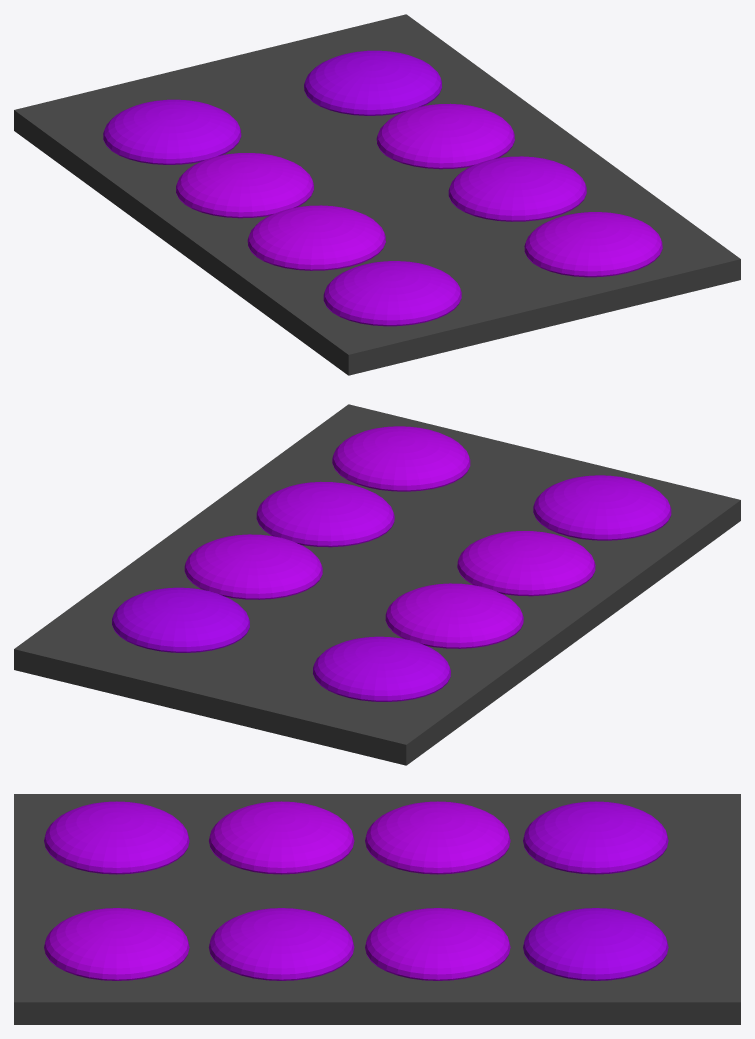
Rendered from Drug4.fbx.
3 views of the same model, one above another, from view 1: azimuth 30°, elevation 25°; view 2: azimuth 150°, elevation 25°; view 3: azimuth 270°, elevation 25° (orthographic). The views are drawn at different scales.
Parts seen in each view (by area): view 1: Cube, Sphere.002, Sphere.003, Sphere, Sphere.001, Sphere.007, Sphere.006, Sphere.004, Sphere.005; view 2: Cube, Sphere, Sphere.001, Sphere.007, Sphere.006, Sphere.004, Sphere.005, Sphere.002, Sphere.003; view 3: Cube, Sphere.004, Sphere, Sphere.007, Sphere.003, Sphere.006, Sphere.001, Sphere.005, Sphere.002.
Part boxes in pixels (box(x1,y1,x2,y2)): Cube: box(14, 14, 740, 375); Sphere.002: box(448, 156, 586, 221); Sphere.003: box(247, 205, 385, 270); Sphere: box(323, 261, 461, 326); Sphere.001: box(524, 212, 662, 277); Sphere.007: box(103, 99, 241, 164); Sphere.006: box(304, 50, 441, 115); Sphere.004: box(176, 153, 313, 218); Sphere.005: box(376, 103, 514, 169); Cube: box(14, 404, 740, 765); Sphere: box(533, 475, 671, 540); Sphere.001: box(332, 426, 470, 491); Sphere.007: box(313, 636, 450, 701); Sphere.006: box(112, 587, 249, 652); Sphere.004: box(385, 583, 523, 648); Sphere.005: box(184, 534, 322, 599); Sphere.002: box(256, 481, 394, 547); Sphere.003: box(457, 531, 595, 596); Cube: box(14, 794, 740, 1024); Sphere.004: box(365, 801, 510, 874); Sphere: box(44, 801, 189, 874); Sphere.007: box(523, 801, 668, 874); Sphere.003: box(209, 801, 354, 874); Sphere.006: box(523, 908, 668, 980); Sphere.001: box(44, 908, 189, 980); Sphere.005: box(365, 908, 510, 980); Sphere.002: box(208, 908, 354, 980).
Bounding box in the file's own units: 12.03 × 1.27 × 17.76.
